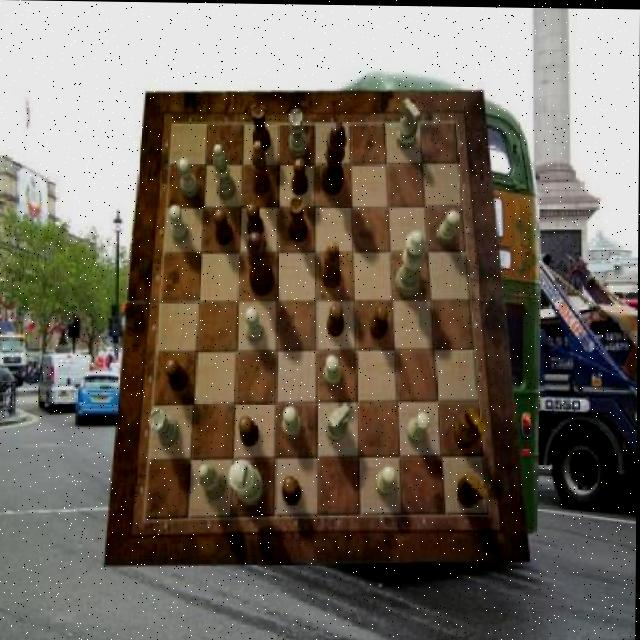bishop: (253, 140, 273, 194), (323, 241, 343, 289)
black-bishop: (322, 121, 348, 195)
black-king: (454, 407, 488, 447), (457, 470, 490, 505)
black-knight: (165, 357, 188, 392), (214, 209, 234, 243), (240, 416, 261, 448), (246, 201, 264, 238), (293, 157, 310, 195), (327, 302, 345, 337), (370, 303, 388, 337), (283, 477, 303, 505)
black-pawn: (248, 230, 275, 295)
black-queen: (252, 103, 272, 152), (290, 196, 310, 241)
black-rook: (214, 144, 238, 200), (200, 464, 228, 500)
white-bishop: (231, 458, 267, 504)
white-king: (398, 98, 421, 149), (327, 402, 350, 441)
white-knight: (437, 208, 460, 243), (408, 411, 432, 444), (179, 157, 199, 196), (170, 204, 190, 241), (246, 307, 265, 344), (376, 464, 397, 496), (284, 405, 303, 437), (326, 355, 343, 387)
white-pawn: (395, 231, 428, 297)
white-queen: (150, 408, 180, 446), (290, 110, 308, 157)
